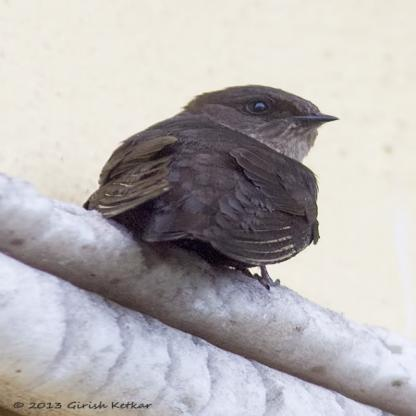Burung: (82, 84, 338, 288)
